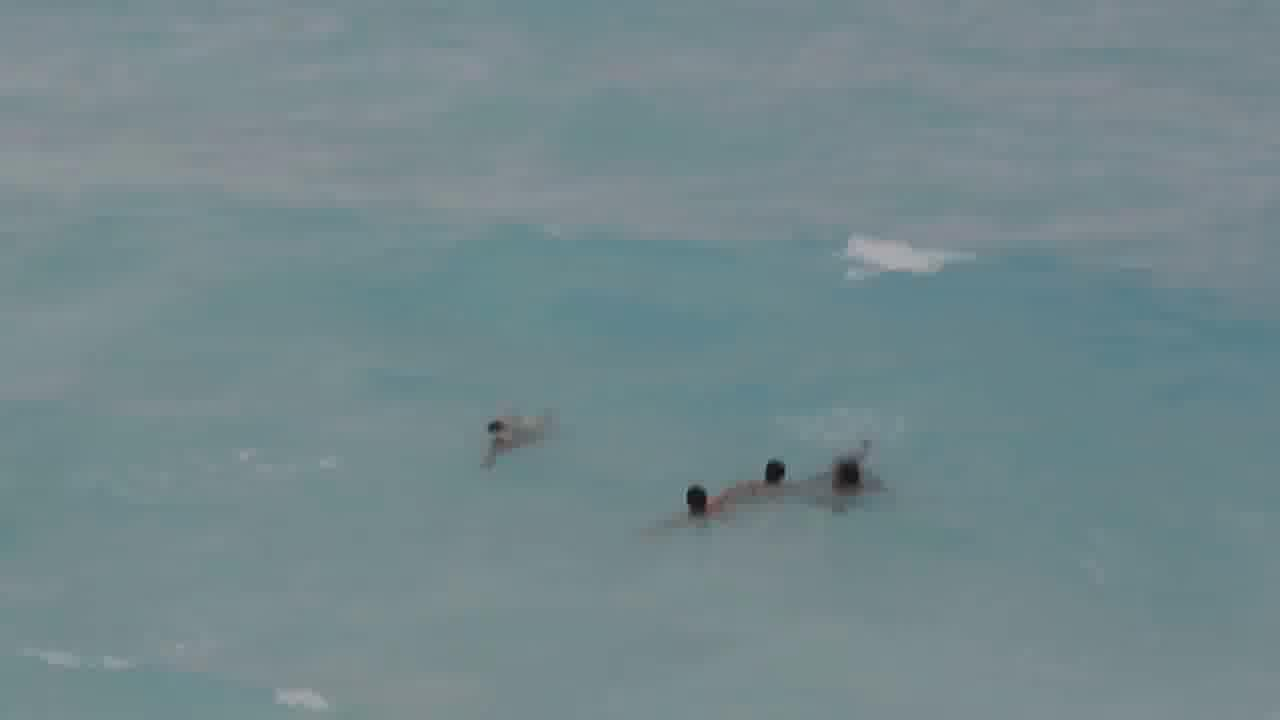human: (473, 409, 552, 475), (820, 451, 889, 502), (724, 449, 802, 494), (663, 475, 729, 528)
